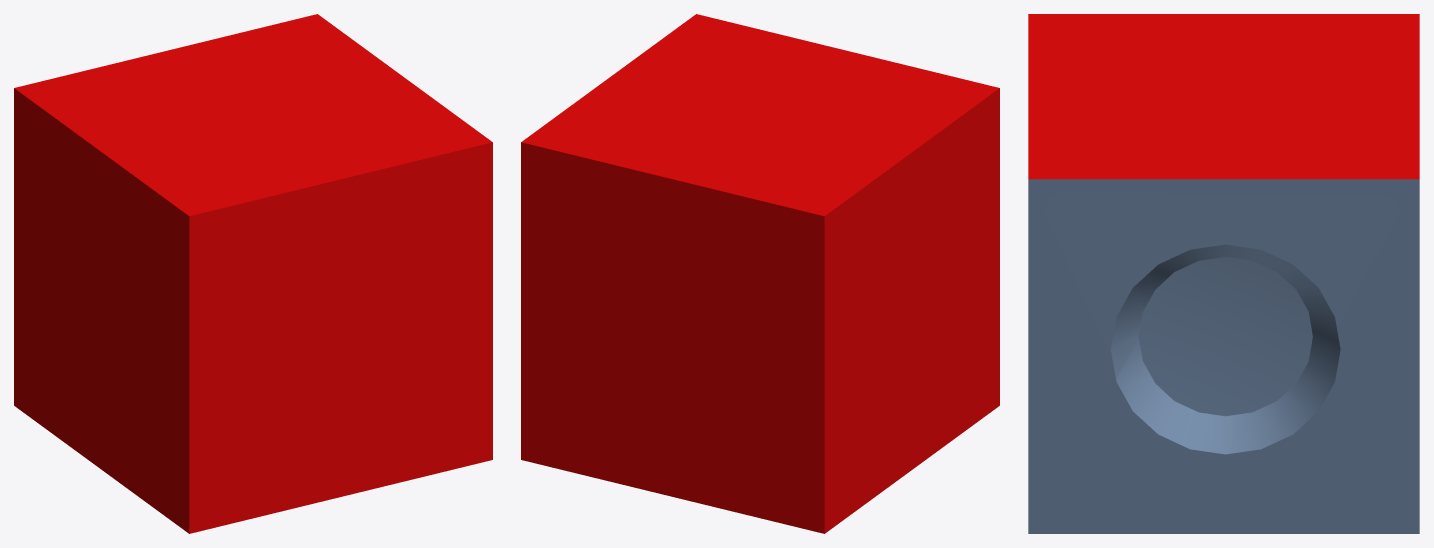
The model's file is PoolC.fbx.
3 views of the same model, side by side, from view 1: azimuth 30°, elevation 25°; view 2: azimuth 150°, elevation 25°; view 3: azimuth 270°, elevation 25° (orthographic). The views are drawn at different scales.
Visible parts, largest first — view 1: Blue_Chalk; view 2: Blue_Chalk; view 3: Blue_Chalk.
Boxes of the visible parts, x1,y1,x2,y2 form: Blue_Chalk: (14,14,492,533); Blue_Chalk: (521,14,999,533); Blue_Chalk: (1028,14,1419,533).
Size of the model in its own units: 0.0477 by 0.0473 by 0.0473.
